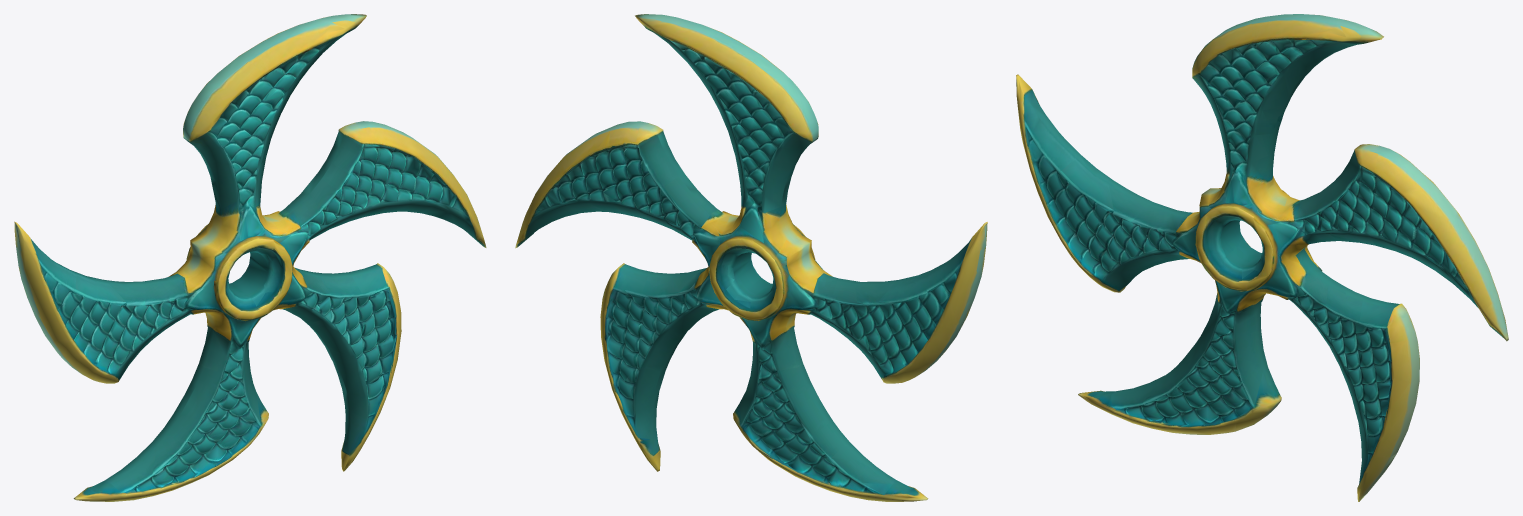
The model's file is prop_hayate_shuriken.glb.
3 renders of one model, left to right at view 1: azimuth 30°, elevation 25°; view 2: azimuth 150°, elevation 25°; view 3: azimuth 330°, elevation 25°, orthographic. The views are drawn at different scales.
Parts seen in each view (by area): view 1: tripo_node_97df9544-4463-4707-b936-e848bbeeb100; view 2: tripo_node_97df9544-4463-4707-b936-e848bbeeb100; view 3: tripo_node_97df9544-4463-4707-b936-e848bbeeb100.
Boxes of the visible parts, left/top/right/bottom form: tripo_node_97df9544-4463-4707-b936-e848bbeeb100: left=14, top=14, right=486, bottom=501; tripo_node_97df9544-4463-4707-b936-e848bbeeb100: left=515, top=14, right=987, bottom=501; tripo_node_97df9544-4463-4707-b936-e848bbeeb100: left=1016, top=14, right=1508, bottom=501.
Size of the model in its own units: 0.98 by 0.9055 by 0.1178.
Materials: 1 (1 with a texture image).
